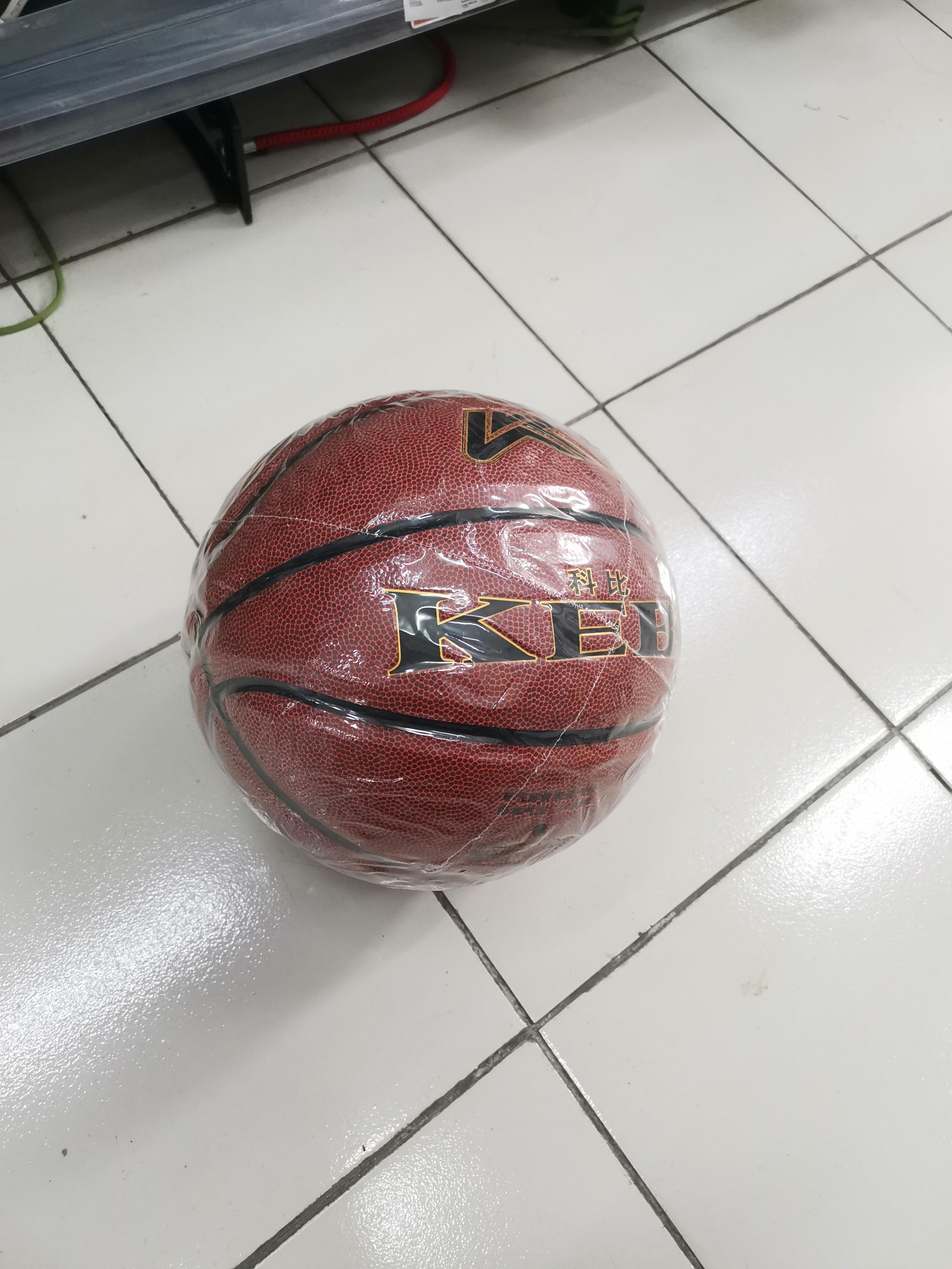ball: (189, 390, 681, 893)
